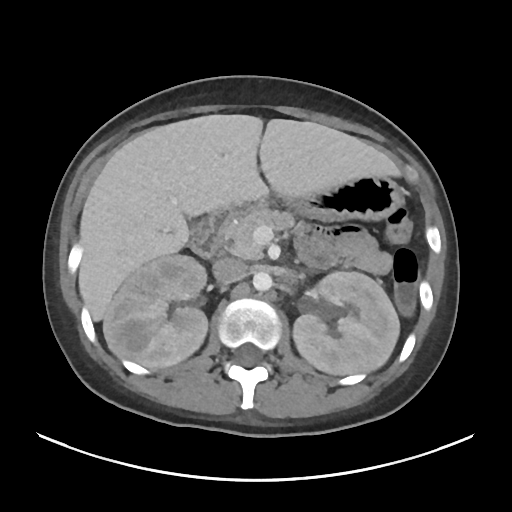Lesion: (98, 250, 210, 370)
